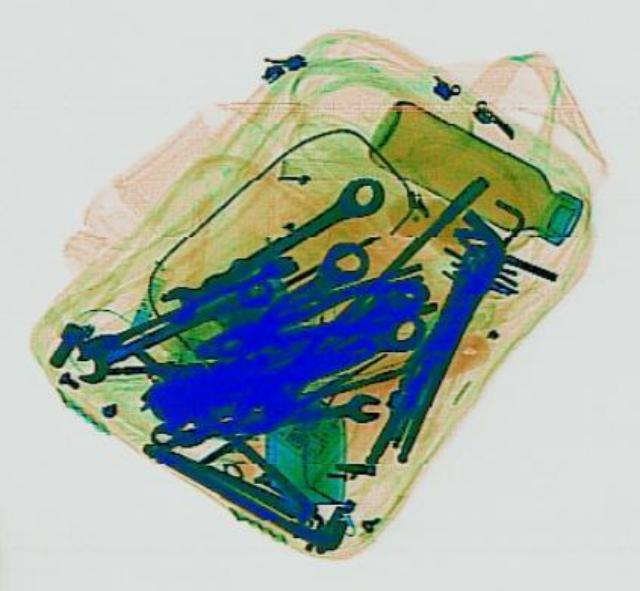Pliers: (182, 260, 438, 375)
Wrench: (146, 168, 392, 329), (62, 269, 278, 386), (145, 389, 383, 449)
